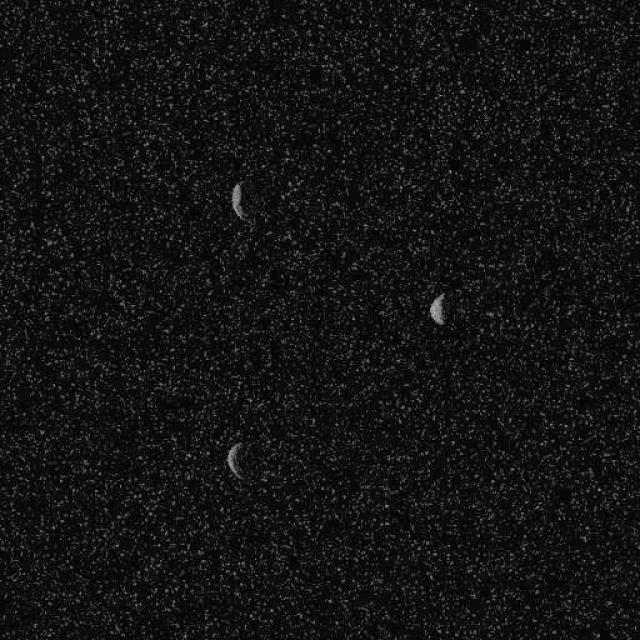D2: (225, 440, 251, 480), (228, 180, 248, 220), (428, 291, 447, 325)
